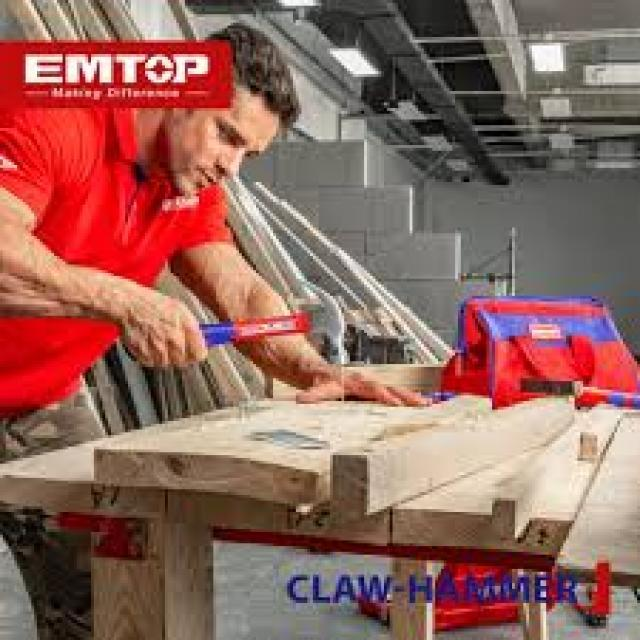hammer: (163, 270, 360, 373)
